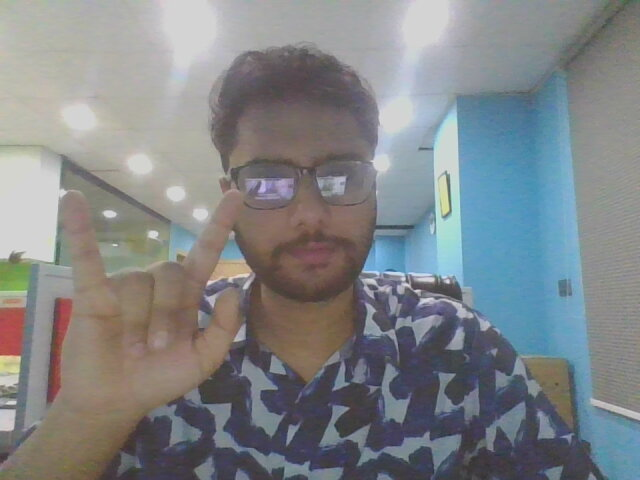iloveyou: (37, 184, 256, 441)
